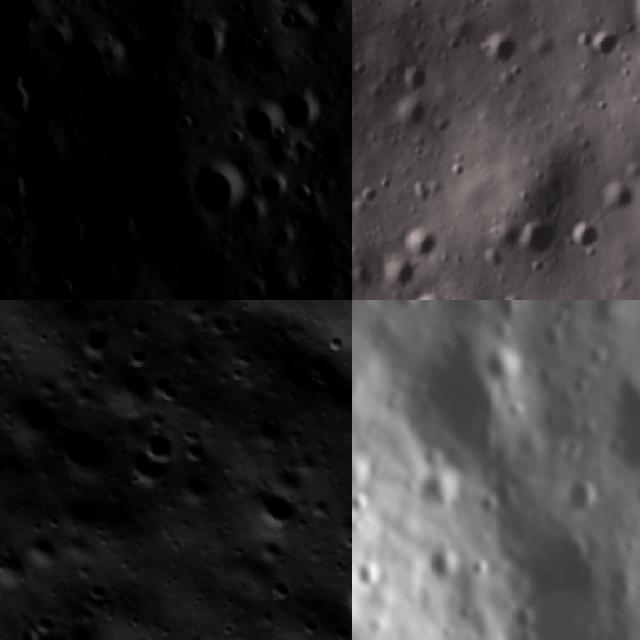crater: (0, 232, 223, 300), (168, 134, 268, 234), (44, 8, 144, 108), (216, 76, 296, 156), (589, 369, 640, 492), (0, 371, 78, 451), (42, 411, 120, 489), (265, 65, 342, 142), (235, 471, 310, 547), (168, 0, 243, 74), (44, 475, 115, 546), (0, 56, 51, 134), (131, 417, 190, 475), (112, 441, 170, 500), (412, 463, 466, 523), (248, 160, 302, 214), (21, 522, 72, 573), (72, 316, 123, 367), (559, 474, 607, 524), (326, 550, 352, 638), (229, 258, 283, 300), (120, 330, 167, 377), (256, 571, 302, 618), (518, 214, 561, 264), (0, 535, 38, 590), (143, 364, 190, 408), (427, 538, 465, 592), (280, 170, 324, 215), (167, 328, 212, 372), (589, 178, 636, 220), (484, 345, 527, 390), (196, 304, 239, 346), (562, 215, 603, 259), (478, 28, 518, 69), (402, 224, 446, 261), (388, 96, 428, 135), (378, 255, 418, 294), (122, 305, 160, 342), (28, 604, 65, 640), (591, 24, 626, 62), (399, 59, 435, 95), (319, 323, 352, 357), (40, 300, 95, 315), (252, 0, 315, 13), (568, 27, 598, 51), (475, 250, 507, 272), (356, 182, 383, 206), (494, 287, 528, 300), (529, 302, 566, 308)
